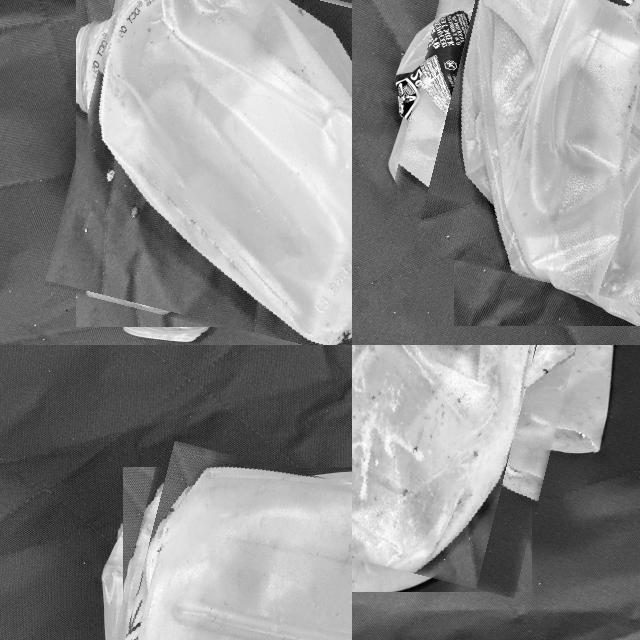milk-jug: (62, 0, 352, 345), (398, 0, 640, 311), (352, 345, 592, 575), (89, 458, 352, 640)
